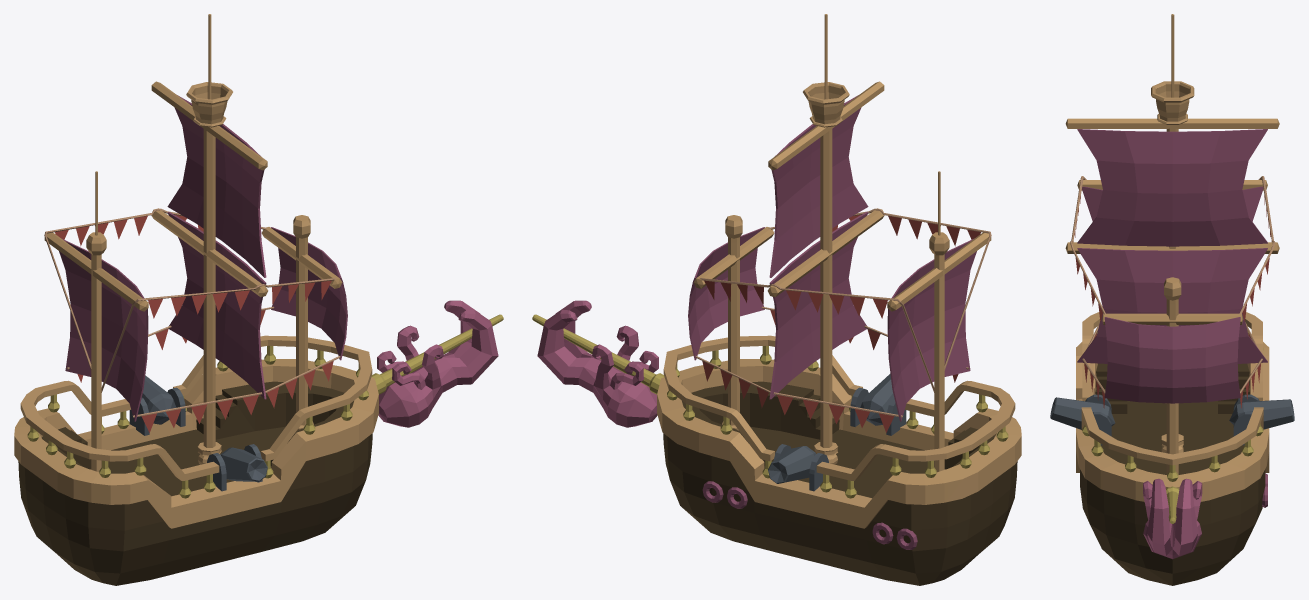
The model's file is haidaochuan_1.FBX.
3 views of the same model, side by side, from view 1: azimuth 30°, elevation 25°; view 2: azimuth 150°, elevation 25°; view 3: azimuth 270°, elevation 25° (orthographic). The views are drawn at different scales.
Parts seen in each view (by area): view 1: haidaochuan; view 2: haidaochuan; view 3: haidaochuan.
Part boxes in pixels (x1,y1,x2,y2): haidaochuan: (14, 14, 503, 585); haidaochuan: (532, 14, 1021, 585); haidaochuan: (1050, 14, 1294, 585).
Size of the model in its own units: 124 by 135 by 57.64.
